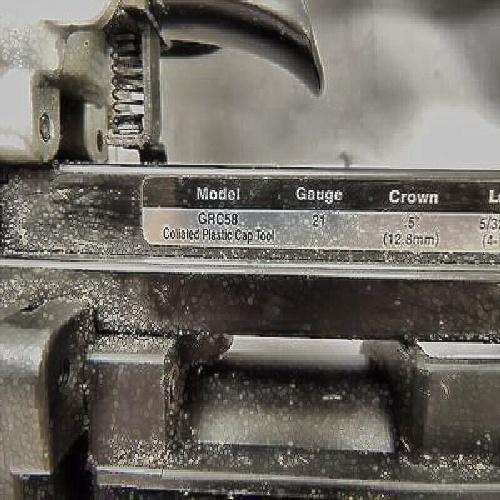stapler: (31, 80, 480, 478)
